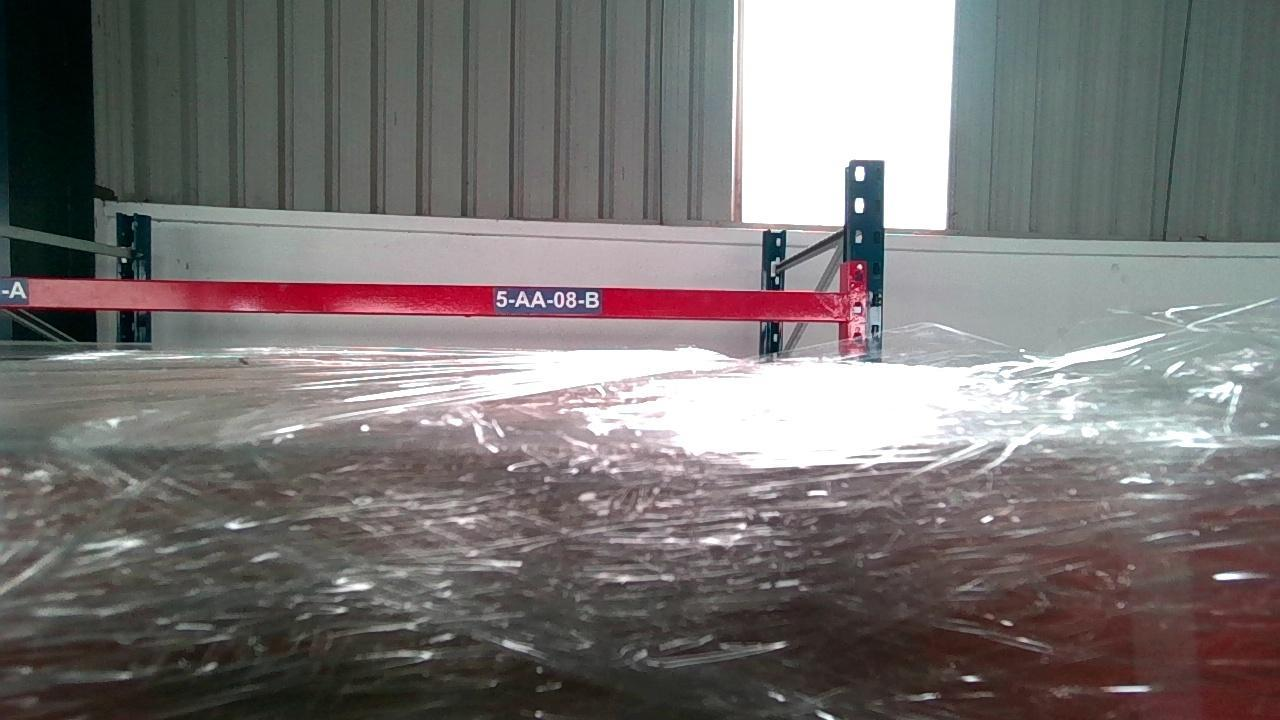h_rack: (0, 277, 853, 319)
